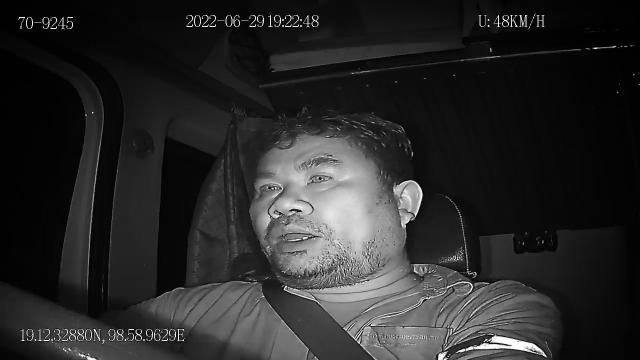SafeDriving: (303, 160, 342, 192), (250, 172, 288, 199)
Seatbelt: (258, 272, 380, 360)
